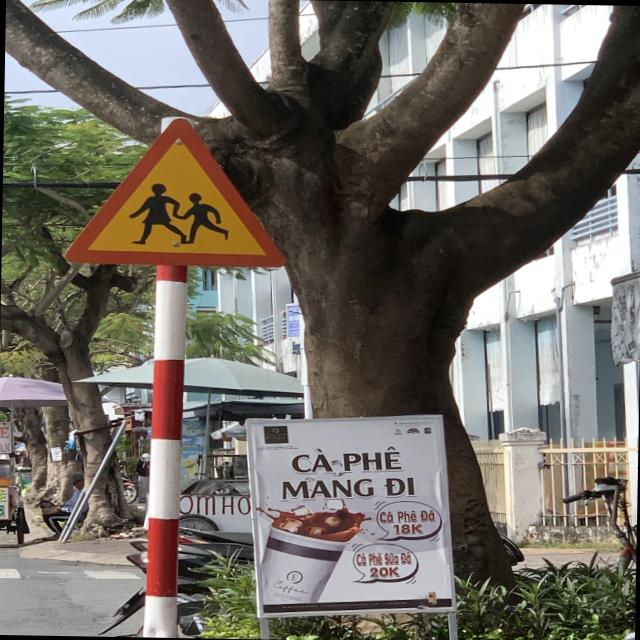Vong_Xuyen: (64, 115, 286, 268)
